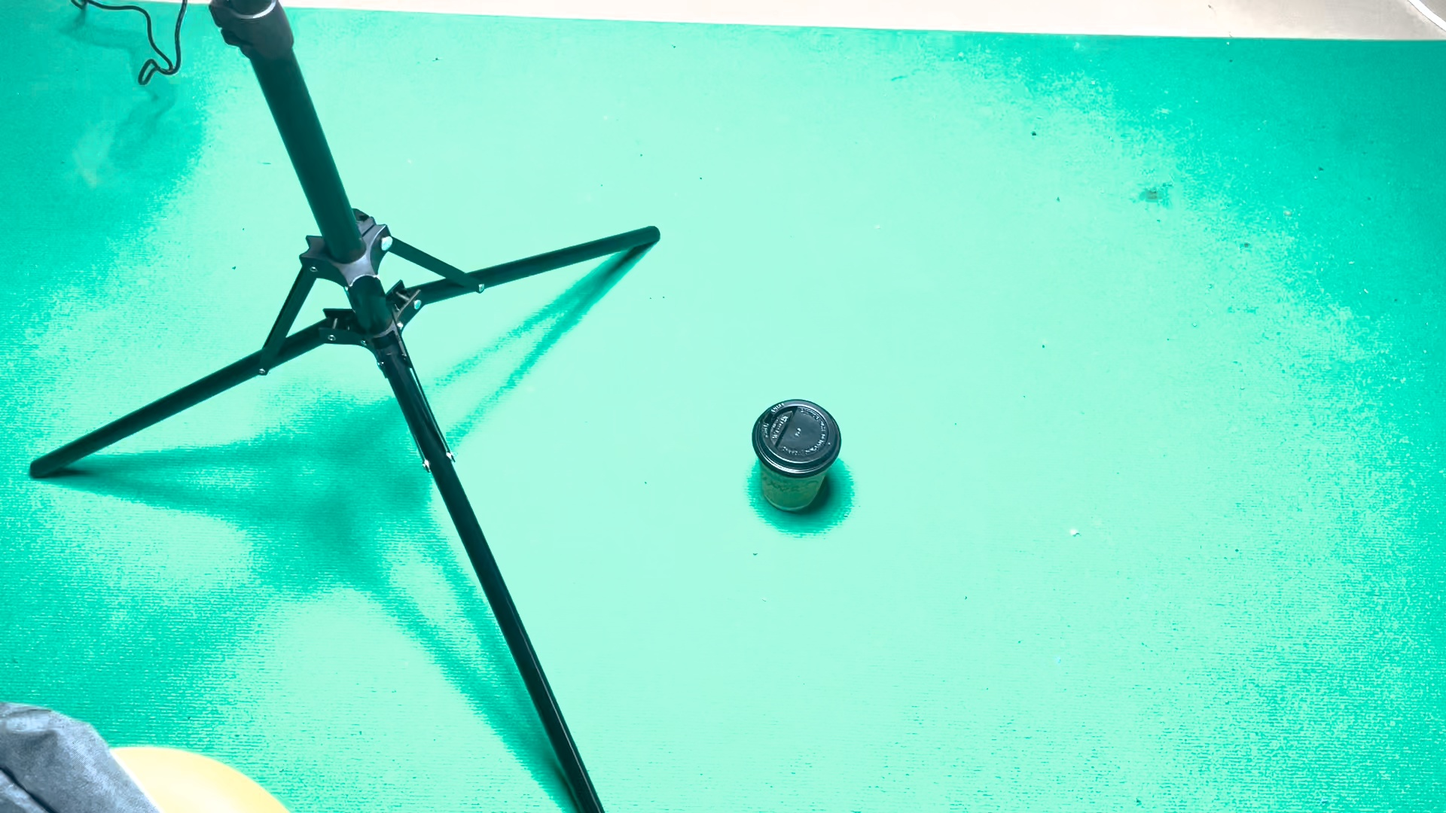cup: (751, 398, 840, 513)
